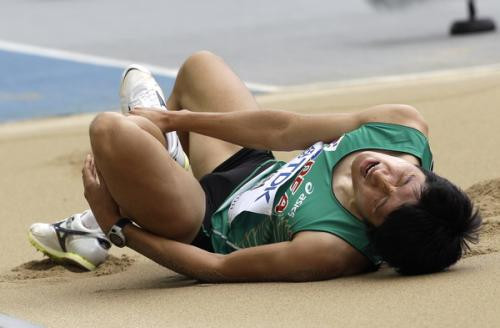fall: (24, 29, 484, 297)
